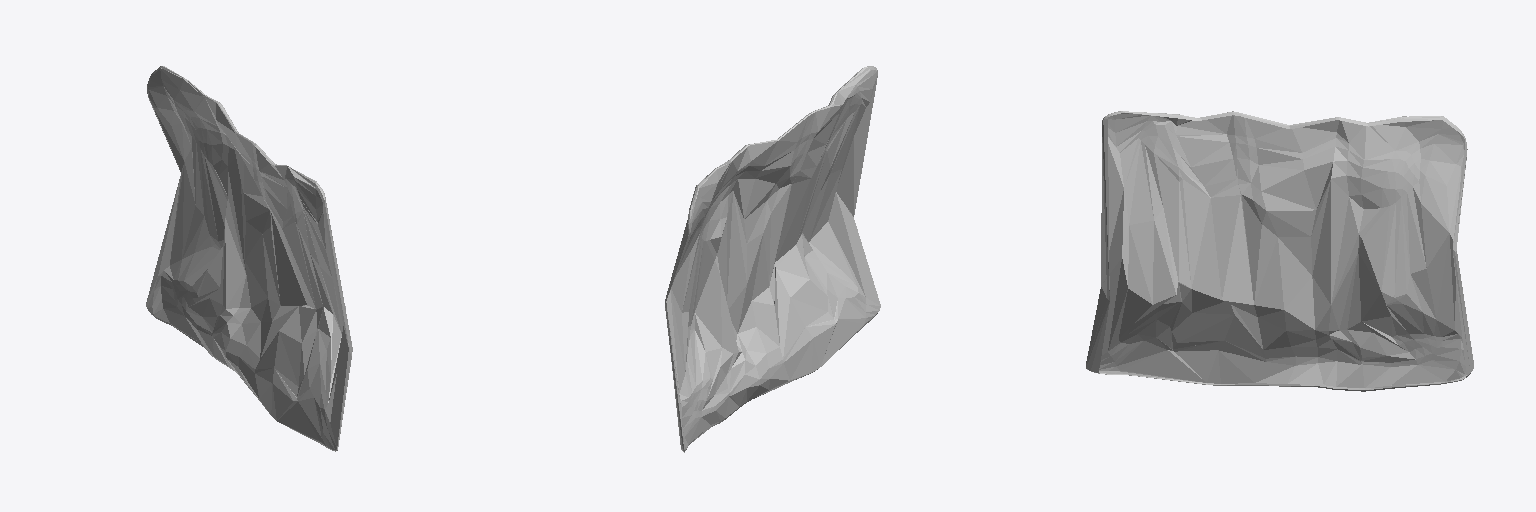
File: pared.obj
3 views of the same model, side by side, from view 1: azimuth 30°, elevation 25°; view 2: azimuth 150°, elevation 25°; view 3: azimuth 270°, elevation 25° (orthographic).
Parts seen in each view (by area): view 1: cue_pCube93; view 2: cue_pCube93; view 3: cue_pCube93.
Part boxes in pixels (bbox=[...]): cue_pCube93: bbox=[146, 66, 352, 451]; cue_pCube93: bbox=[665, 66, 880, 452]; cue_pCube93: bbox=[1086, 111, 1473, 391].
Bounding box in the file's own units: 4.16 × 21.29 × 27.57.